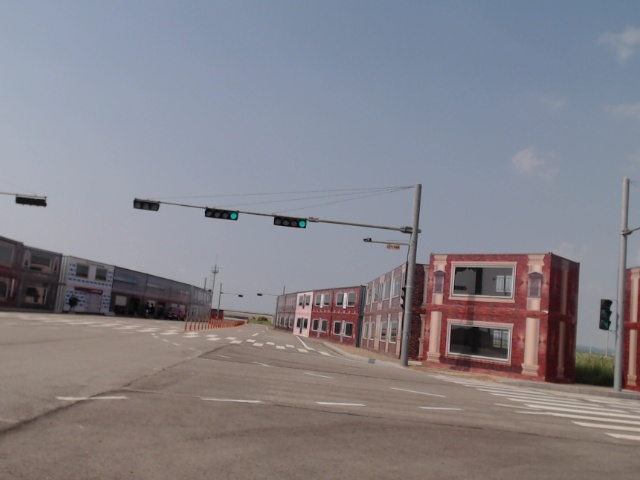straight_green_4: (274, 214, 308, 228), (206, 207, 239, 220)
